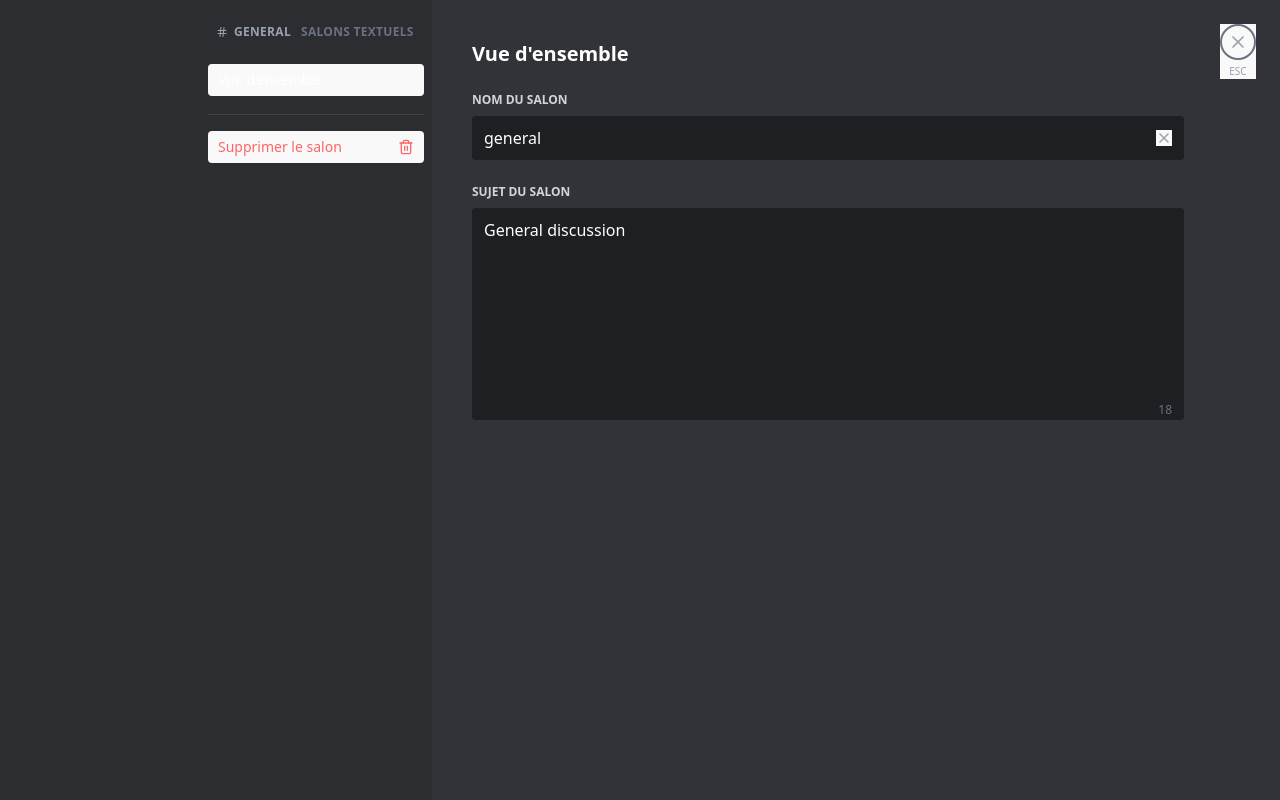
ChannelSettings › shows delete confirmation when delete clicked
# Click the sidebar delete button (first "Supprimer le salon")
Click the button "Supprimer le salon" at (316, 147), box top-left (208, 131), bottom-right (424, 163)
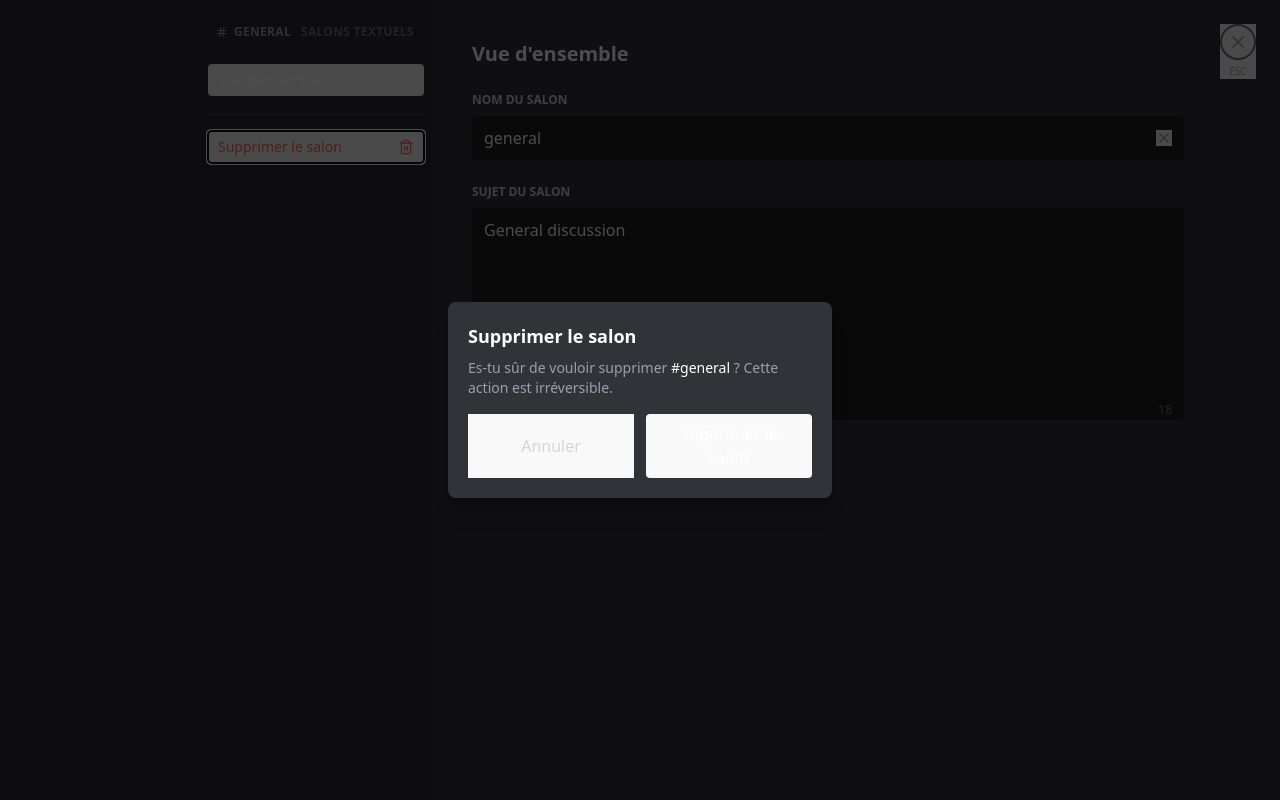
Expected: the text "Es-tu sûr" is shown, top-left (468, 358), bottom-right (667, 377)
